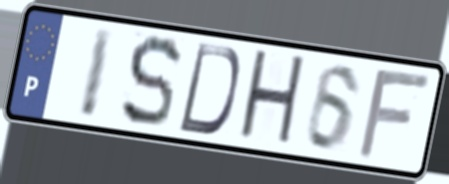6: (302, 62, 364, 153)
D: (175, 40, 243, 138)
F: (353, 68, 435, 162)
H: (234, 46, 309, 153)
I: (75, 24, 118, 122)
S: (118, 33, 184, 131)
